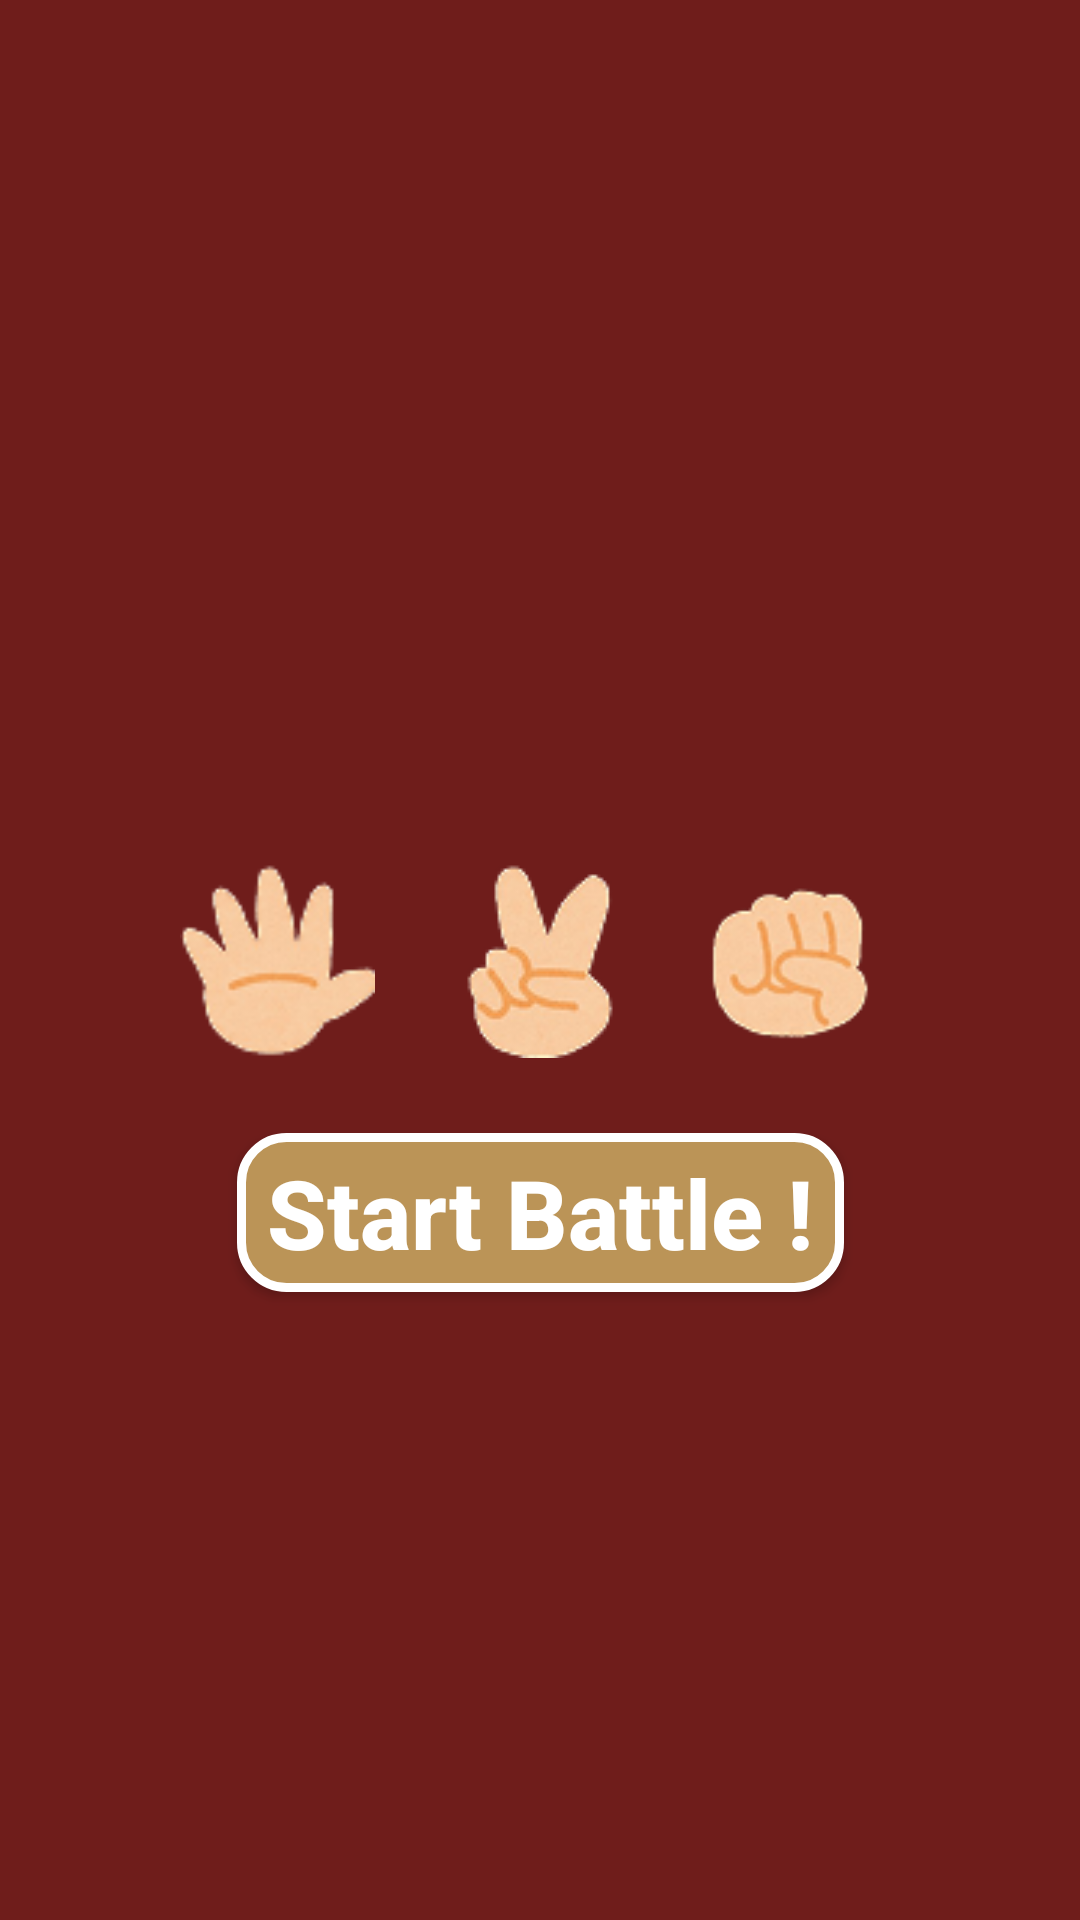

Point at icon controls on the screen. Image size 1080px x 1920px, points as (x,y).
paper: (278,960)
rock: (790,963)
scissor: (540,961)
